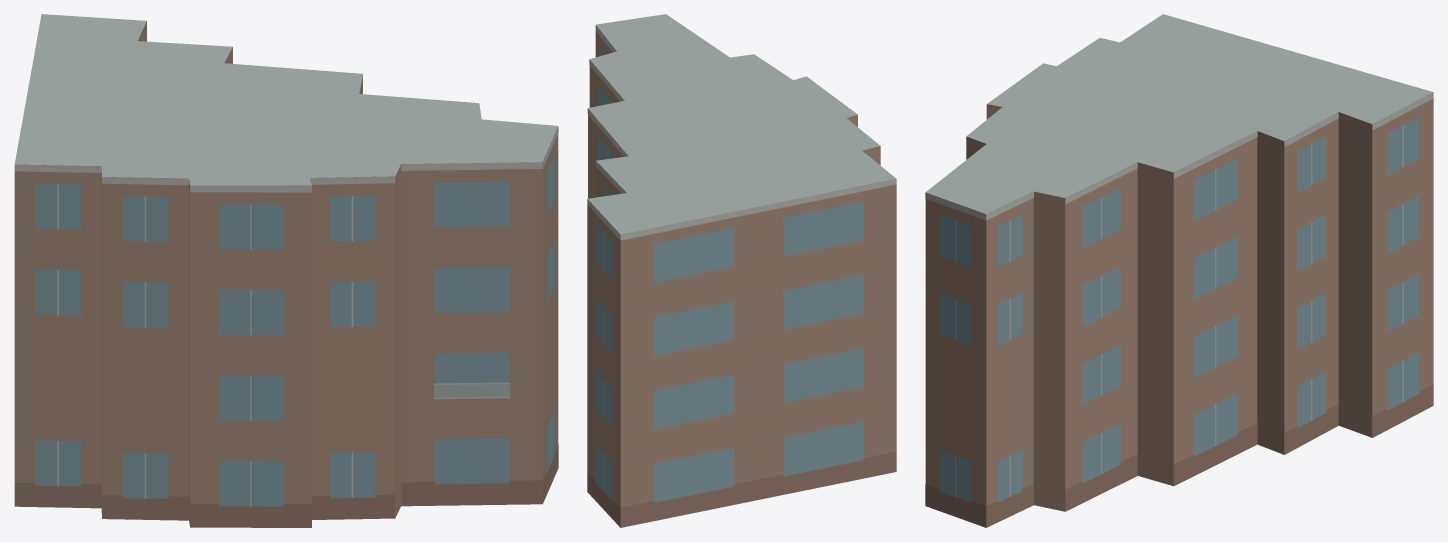
File: survey-upis-32882831.glb
The picture shows the model from 3 angles, left to right: view 1: azimuth 30°, elevation 25°; view 2: azimuth 150°, elevation 25°; view 3: azimuth 270°, elevation 25°; orthographic projection. The views are drawn at different scales.
Parts seen in each view (by area): view 1: survey-upis-32882831.tmp; view 2: survey-upis-32882831.tmp; view 3: survey-upis-32882831.tmp.
Part boxes in pixels (<box>): survey-upis-32882831.tmp: <box>14,14,558,527</box>; survey-upis-32882831.tmp: <box>587,14,896,527</box>; survey-upis-32882831.tmp: <box>925,14,1433,527</box>.
Bounding box in the file's own units: 16.71 × 12.2 × 17.92.
